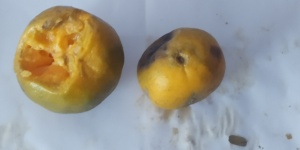BAD: (13, 5, 128, 112), (133, 30, 229, 110)
